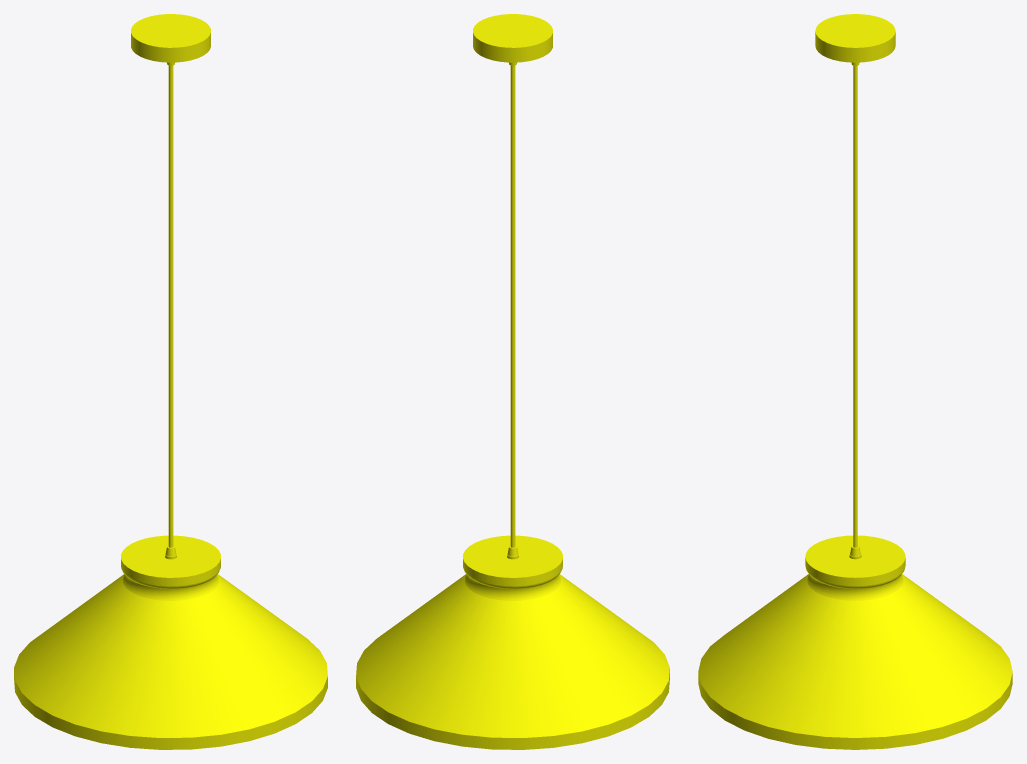
3 renders of one model, left to right at view 1: azimuth 30°, elevation 25°; view 2: azimuth 150°, elevation 25°; view 3: azimuth 270°, elevation 25°, orthographic.
Visible parts, largest first — view 1: Polyline; view 2: Polyline; view 3: Polyline.
Part boxes in pixels (x1,y1,x2,y2): Polyline: (14, 14, 327, 749); Polyline: (356, 14, 669, 749); Polyline: (698, 14, 1012, 749).
Bounding box in the file's own units: 375 × 859 × 375.
